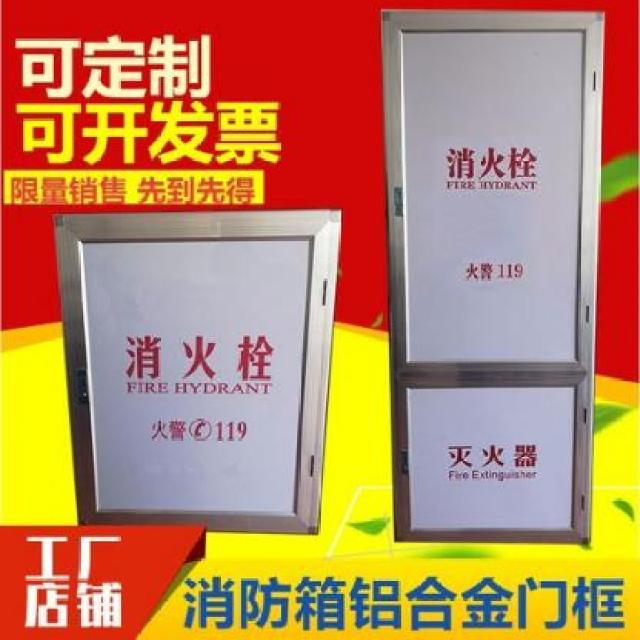firehydrant: (377, 6, 610, 549), (51, 208, 344, 542)
